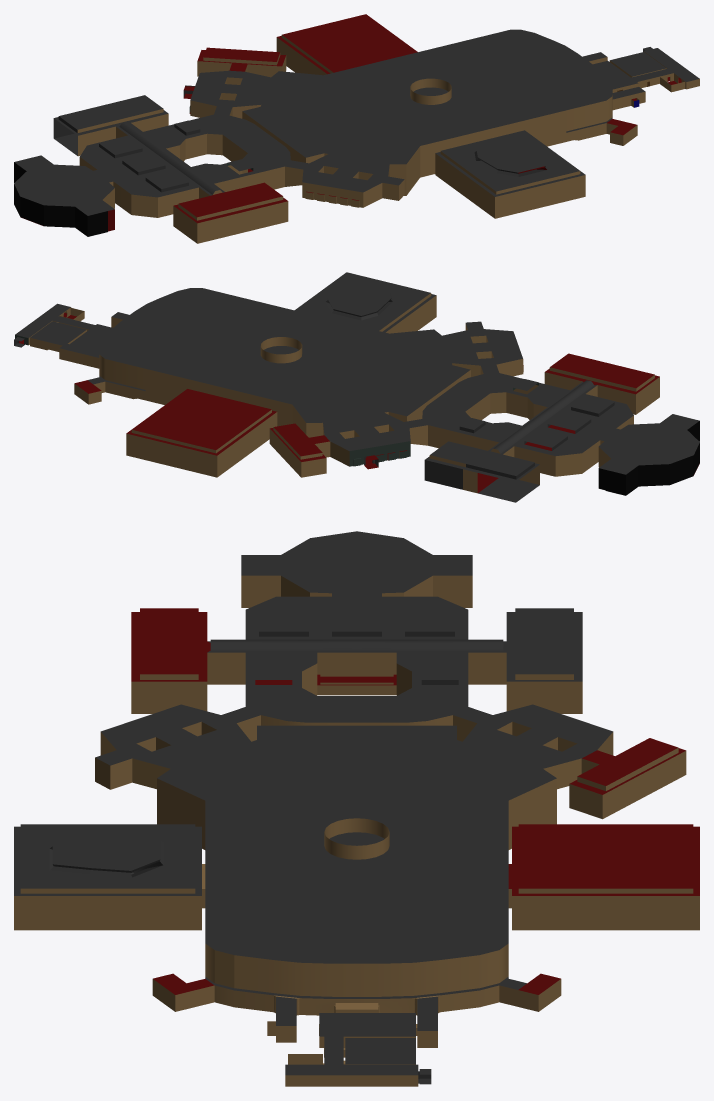
The model's file is Nivel_1_F.fbx.
The picture shows the model from 3 angles, top to bottom: view 1: azimuth 30°, elevation 25°; view 2: azimuth 150°, elevation 25°; view 3: azimuth 270°, elevation 25°; orthographic projection. The views are drawn at different scales.
Visible parts, largest first — view 1: Techo, pared2, Suelo6; view 2: Techo, pared2, Suelo6; view 3: Techo, pared2, Suelo6.
Part boxes in pixels (left/top/right/bottom): Techo: left=14, top=14, right=699, bottom=223; pared2: left=14, top=37, right=699, bottom=243; Suelo6: left=54, top=77, right=681, bottom=176; Techo: left=14, top=272, right=699, bottom=481; pared2: left=14, top=295, right=699, bottom=495; Suelo6: left=14, top=300, right=575, bottom=502; Techo: left=14, top=531, right=699, bottom=1075; pared2: left=14, top=575, right=699, bottom=1086; Suelo6: left=49, top=676, right=508, bottom=1084.
Bounding box in the file's own units: 310 × 19.5 × 179.
